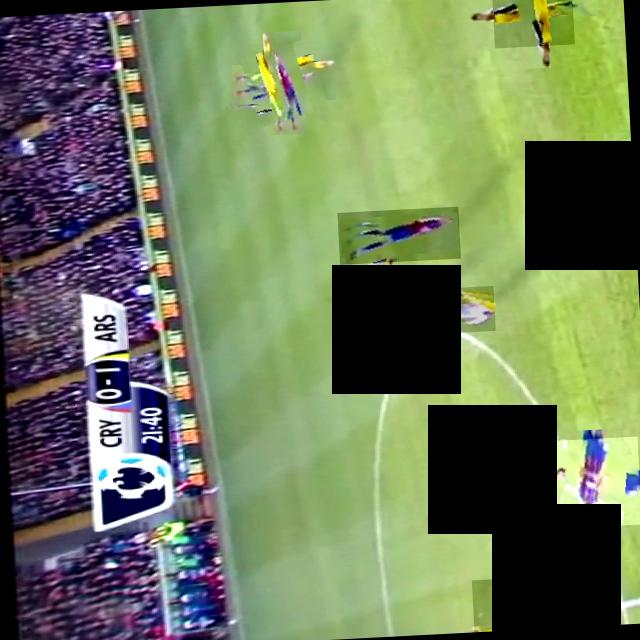referee: (390, 285, 496, 335)
soccer-player: (549, 435, 640, 528), (337, 206, 461, 264), (242, 40, 326, 124), (346, 266, 426, 344), (472, 575, 556, 632), (492, 0, 575, 47), (594, 140, 634, 190)
